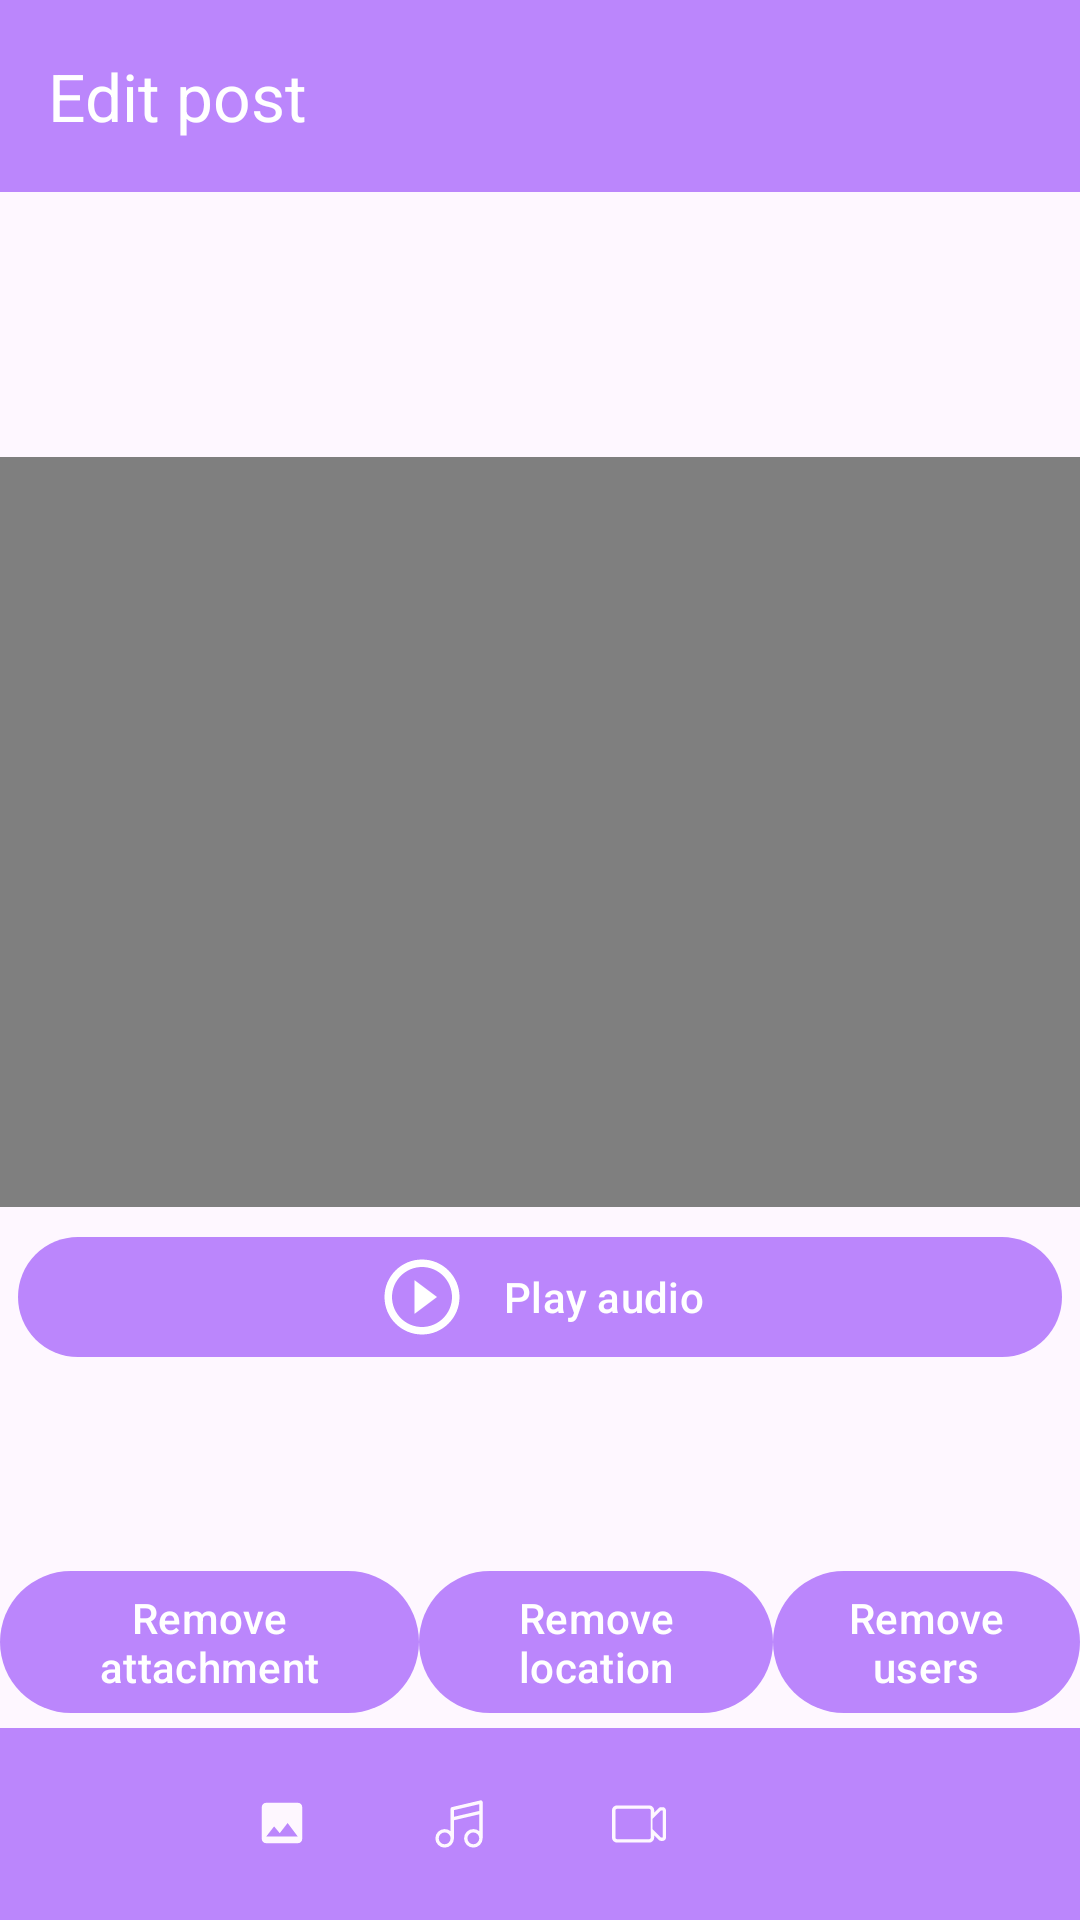

Named icons in this screenshot (1080*1920) and their centers, point (x, y):
Audio: point (459, 1824)
Select photo: point (282, 1823)
